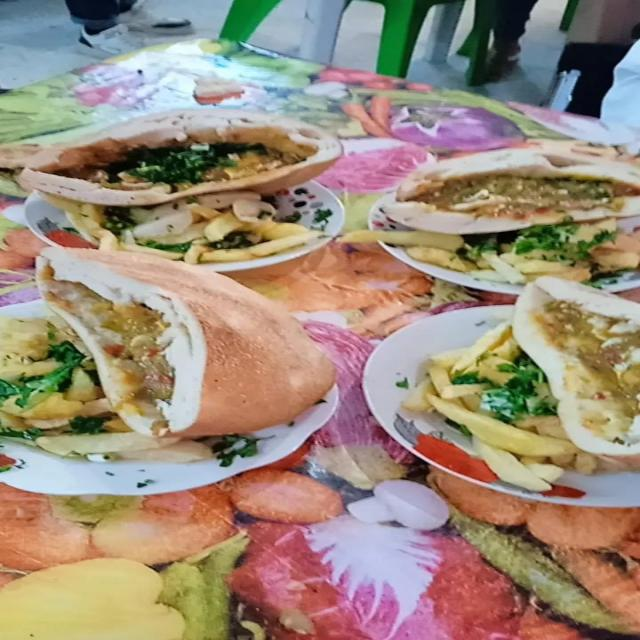Sandwitch tounsi: (50, 253, 342, 442), (12, 96, 339, 242), (400, 142, 623, 267), (506, 290, 640, 450)
